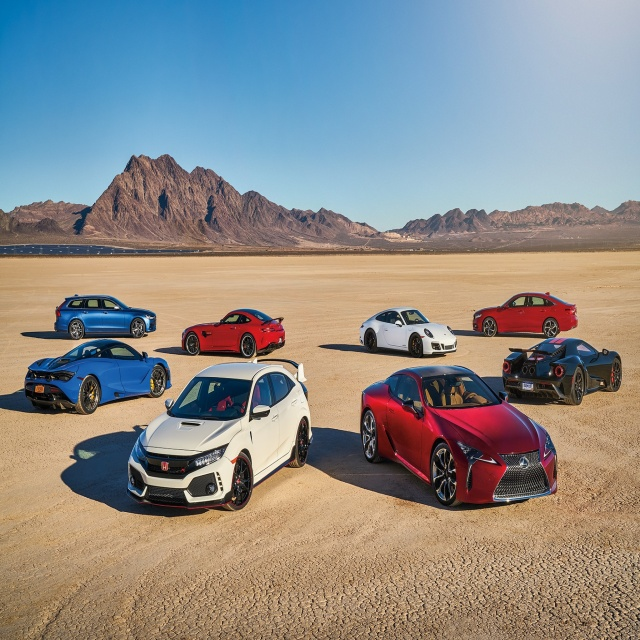car: (358, 363, 560, 508), (125, 359, 310, 511), (26, 339, 172, 416), (500, 339, 623, 400), (355, 305, 455, 358), (473, 289, 580, 337), (182, 307, 286, 356), (54, 294, 157, 341)
